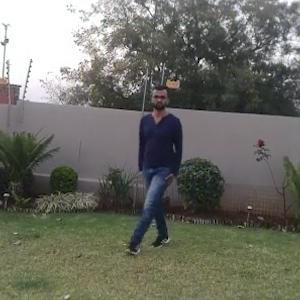follow: (136, 85, 192, 248)
